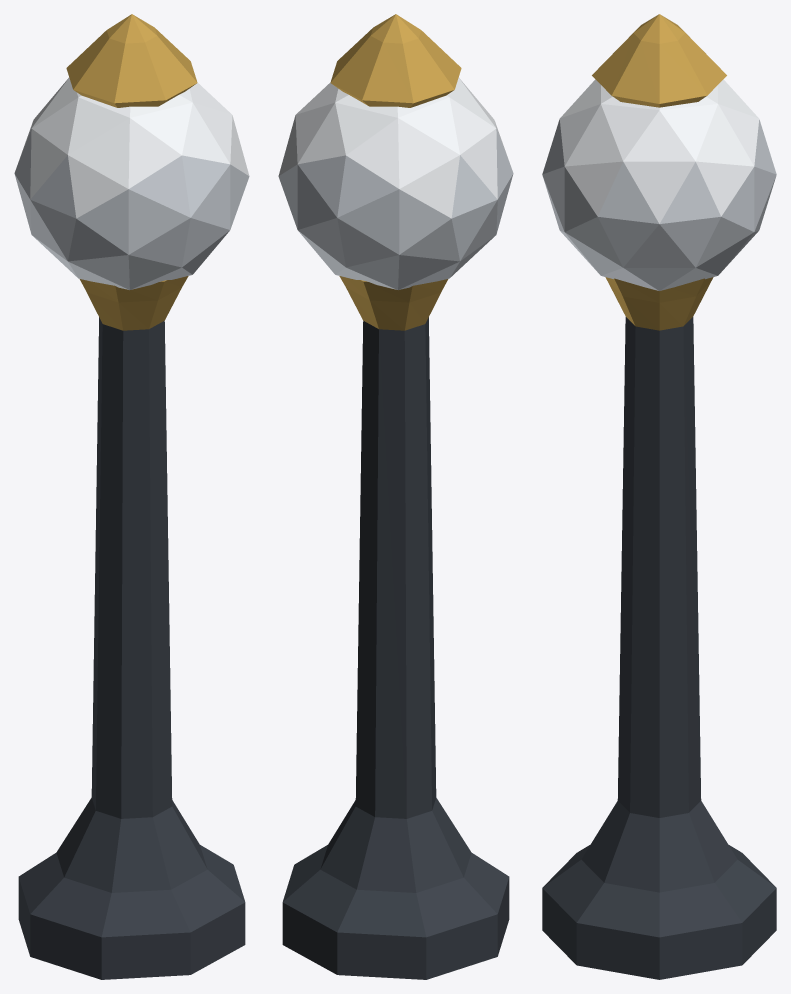
Rendered from LampPost.obj.
The picture shows the model from 3 angles, left to right: view 1: azimuth 30°, elevation 25°; view 2: azimuth 150°, elevation 25°; view 3: azimuth 270°, elevation 25°; orthographic projection.
Bounding box in the file's own units: 0.9 × 3.88 × 0.9.
